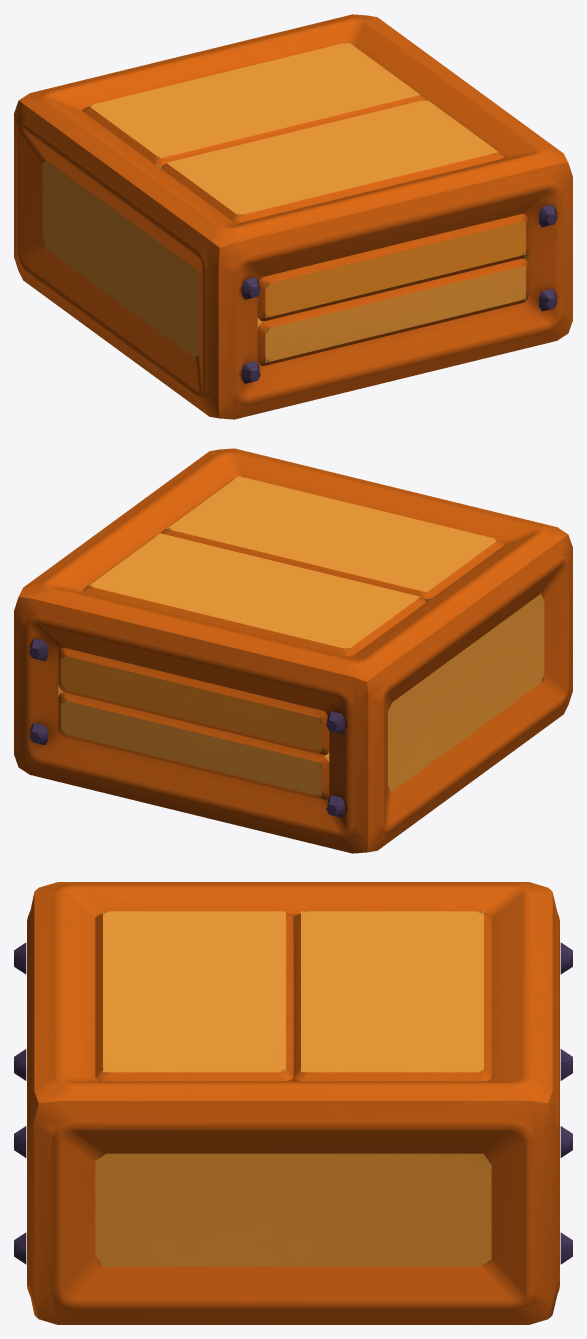
File: kalas1.glb
3 views of the same model, one above another, from view 1: azimuth 30°, elevation 25°; view 2: azimuth 150°, elevation 25°; view 3: azimuth 270°, elevation 25° (orthographic). The views are drawn at different scales.
Parts seen in each view (by area): view 1: kalas1; view 2: kalas1; view 3: kalas1.
Boxes of the visible parts, x1=… form: kalas1: x1=14, y1=14, x2=572, y2=419; kalas1: x1=14, y1=448, x2=572, y2=853; kalas1: x1=14, y1=882, x2=572, y2=1324.
Bounding box in the file's own units: 1.53 × 0.7465 × 1.6.
Materials: 1 (1 with a texture image).
